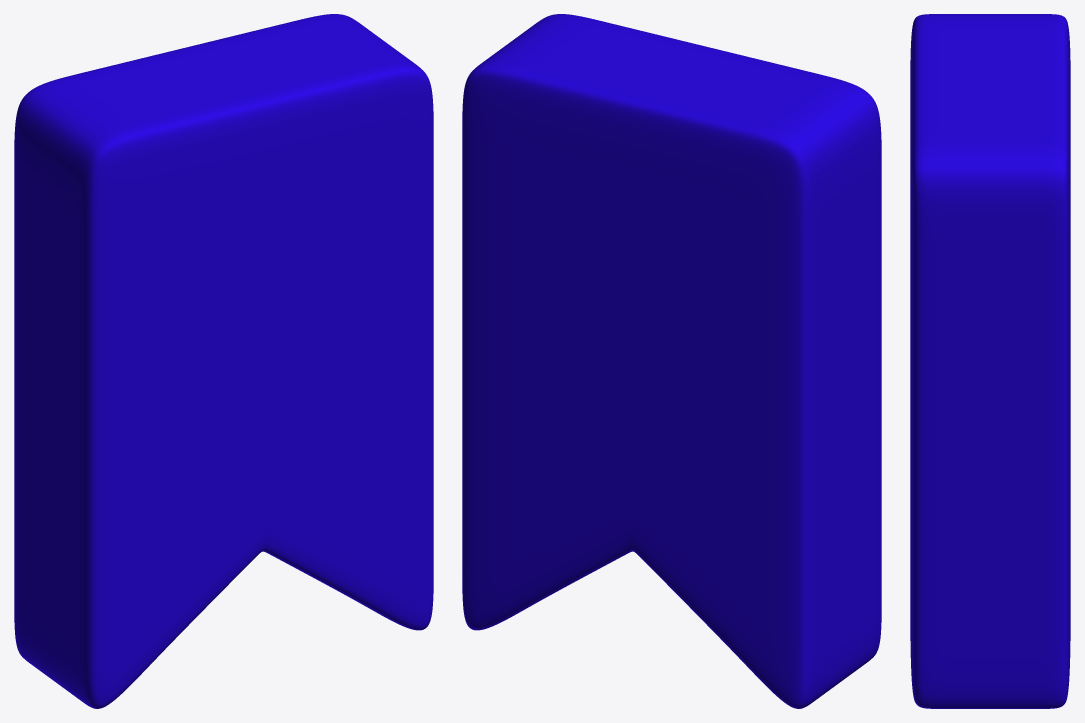
File: bookmark.fbx
3 views of the same model, side by side, from view 1: azimuth 30°, elevation 25°; view 2: azimuth 150°, elevation 25°; view 3: azimuth 270°, elevation 25° (orthographic). The views are drawn at different scales.
Visible parts, largest first — view 1: Bookmark; view 2: Bookmark; view 3: Bookmark.
Boxes of the visible parts, bbox=[...] form: Bookmark: bbox=[14, 14, 433, 708]; Bookmark: bbox=[462, 14, 881, 708]; Bookmark: bbox=[910, 14, 1070, 708].
Bounding box in the file's own units: 118 × 185 × 49.08.
